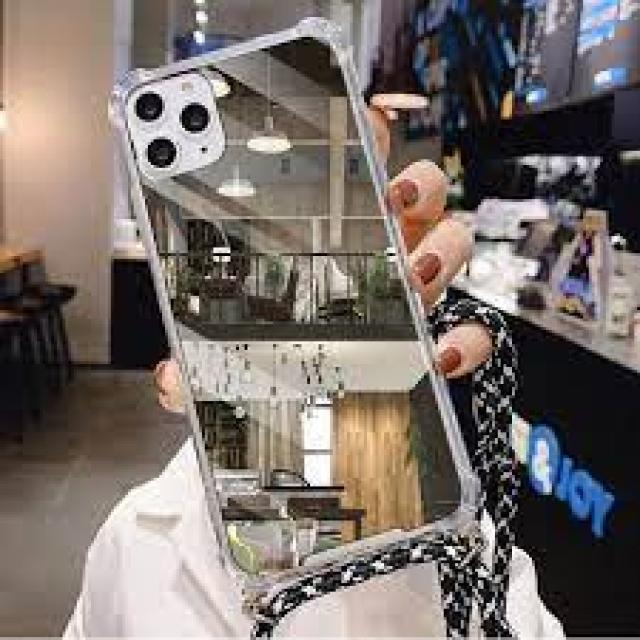Phone: (109, 14, 479, 590)
